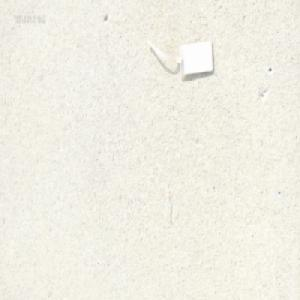LuggageTag: (143, 34, 215, 78)
